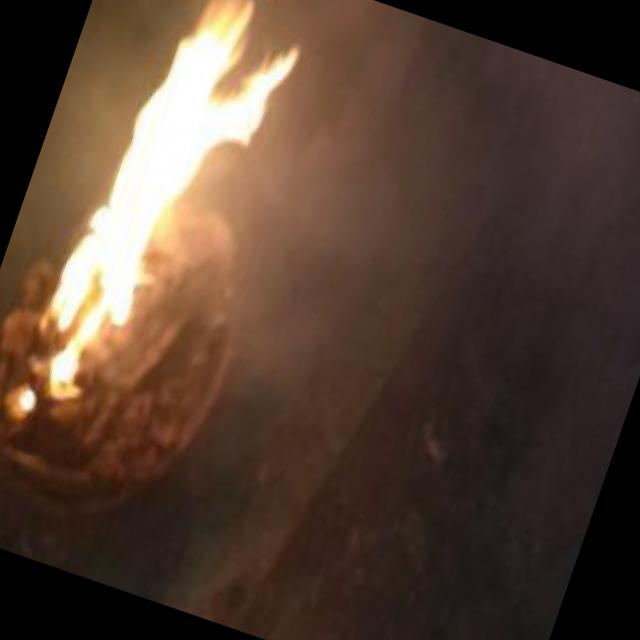fire: (2, 245, 154, 452), (214, 0, 316, 175), (110, 50, 239, 187), (69, 150, 189, 278), (158, 0, 275, 83)
smoke: (199, 0, 470, 400), (4, 0, 147, 271), (136, 184, 248, 356)
